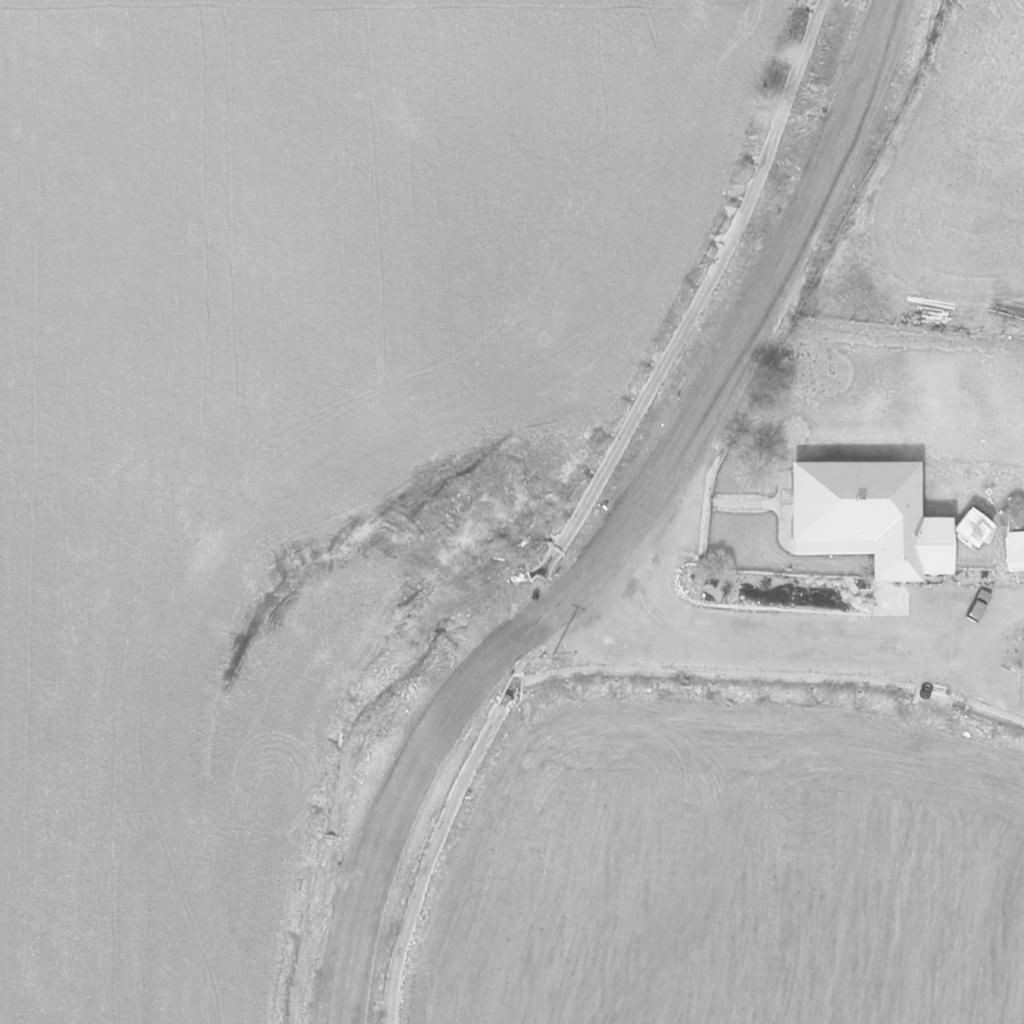vehicle: (966, 587, 994, 623)
